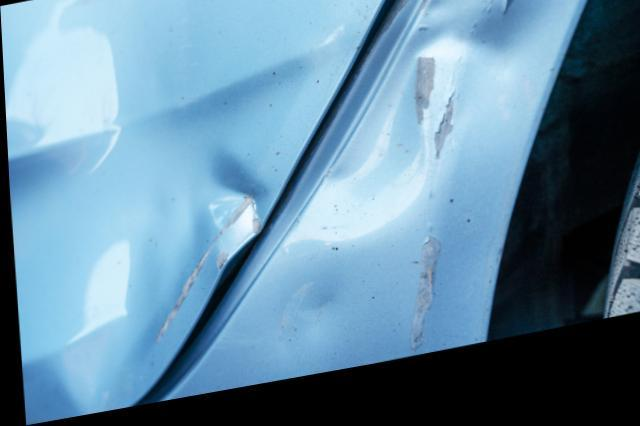dent: (6, 0, 302, 417), (287, 1, 550, 261), (282, 292, 345, 358)
scratch: (402, 249, 439, 370)
